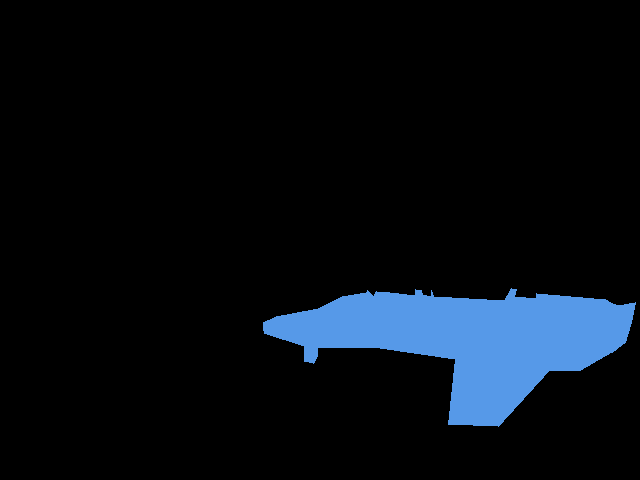Airplane: (263, 288, 635, 427)
